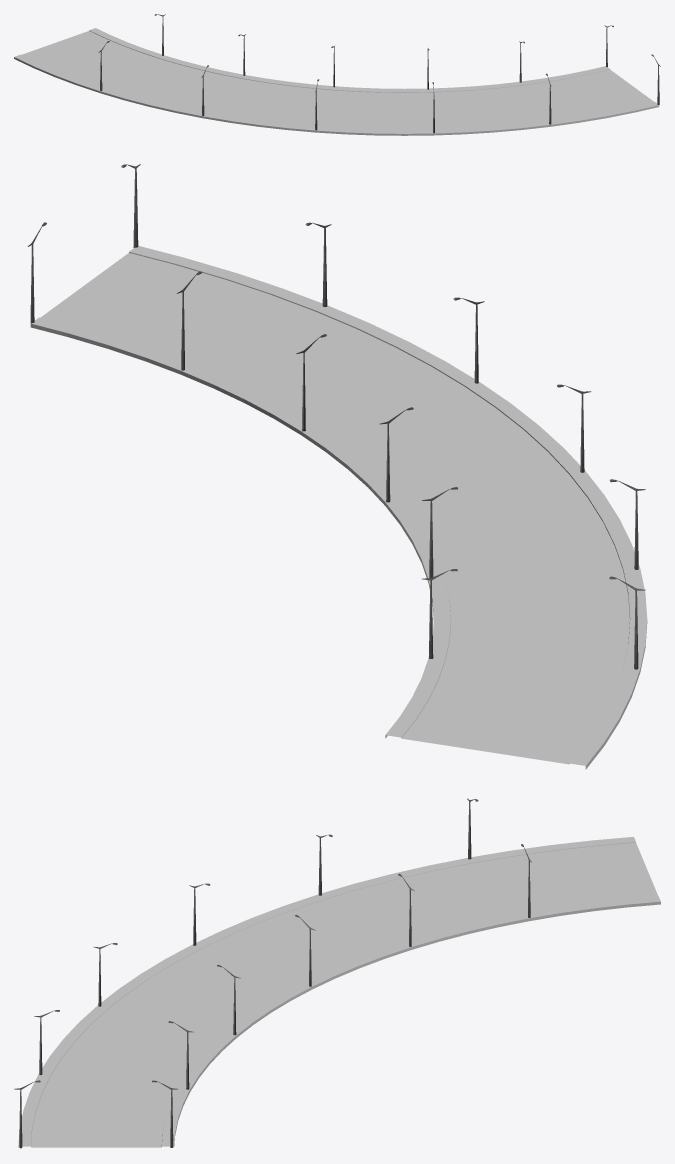
Rendered from Big_Road_80.FBX.
The picture shows the model from 3 angles, top to bottom: view 1: azimuth 30°, elevation 25°; view 2: azimuth 150°, elevation 25°; view 3: azimuth 270°, elevation 25°; orthographic projection. The views are drawn at different scales.
Visible parts, largest first — view 1: Big_Road_80, city_light015; view 2: Big_Road_80, city_light015; view 3: Big_Road_80, city_light015.
Boxes of the visible parts, <box> form: Big_Road_80: <box>14,28,659,135</box>; city_light015: <box>98,14,660,133</box>; Big_Road_80: <box>30,246,647,769</box>; city_light015: <box>27,164,645,669</box>; Big_Road_80: <box>18,836,660,1147</box>; city_light015: <box>14,798,531,1148</box>.
Size of the model in its own units: 107 by 94.11 by 11.04.
